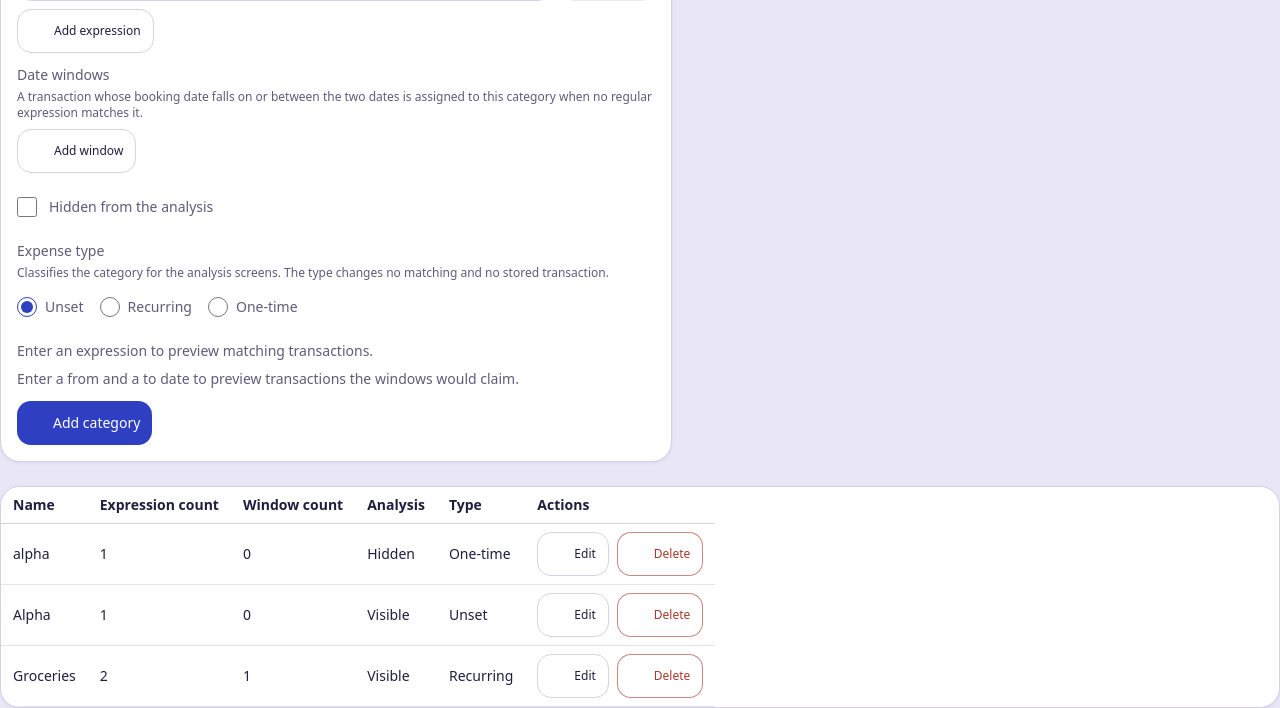
category management page › sorts category rows and loads the selected category into the edit form
(page scrolled)
Click the button "Edit" in the row of "Groceries".
click(573, 676)  # box [537, 654, 609, 698]
(page scrolled)
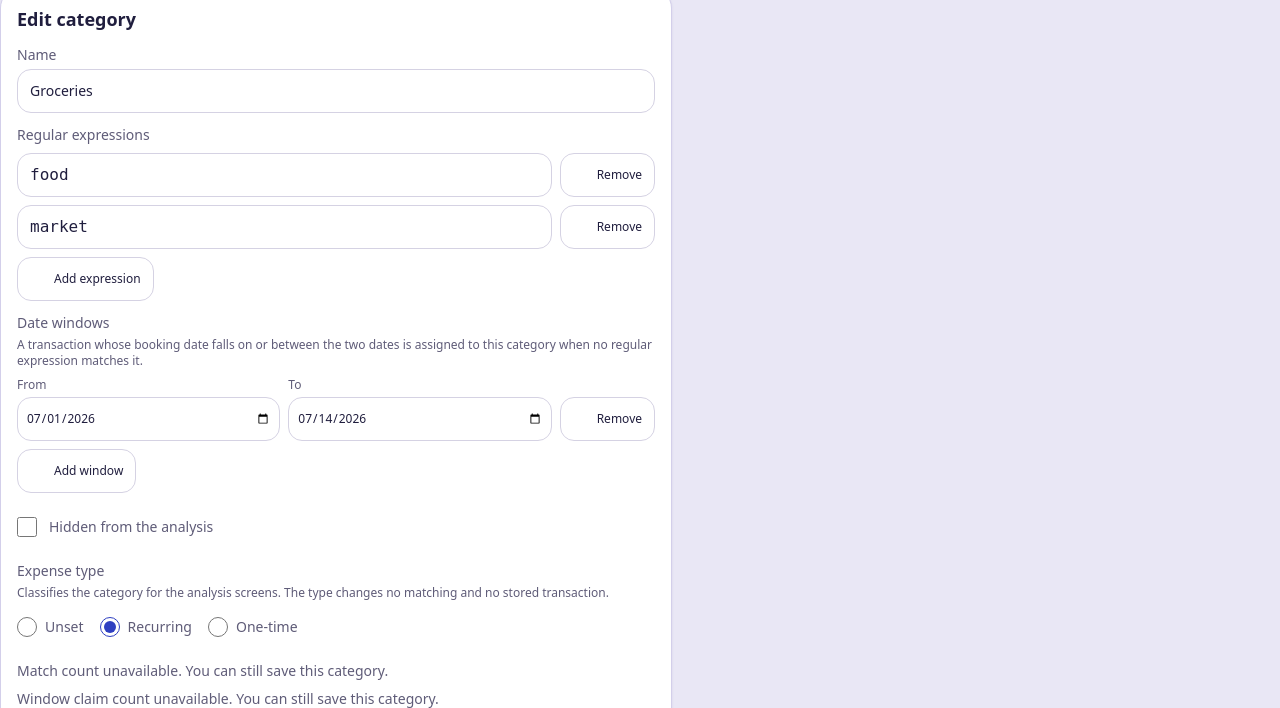
Now the heading "Edit category" is shown, box [17, 7, 136, 31]
Now the field labelled "Name" holds "Groceries", box [17, 69, 655, 113]
Now the date field with test id "window-from" holds "2026-07-01", box [17, 397, 280, 441]
